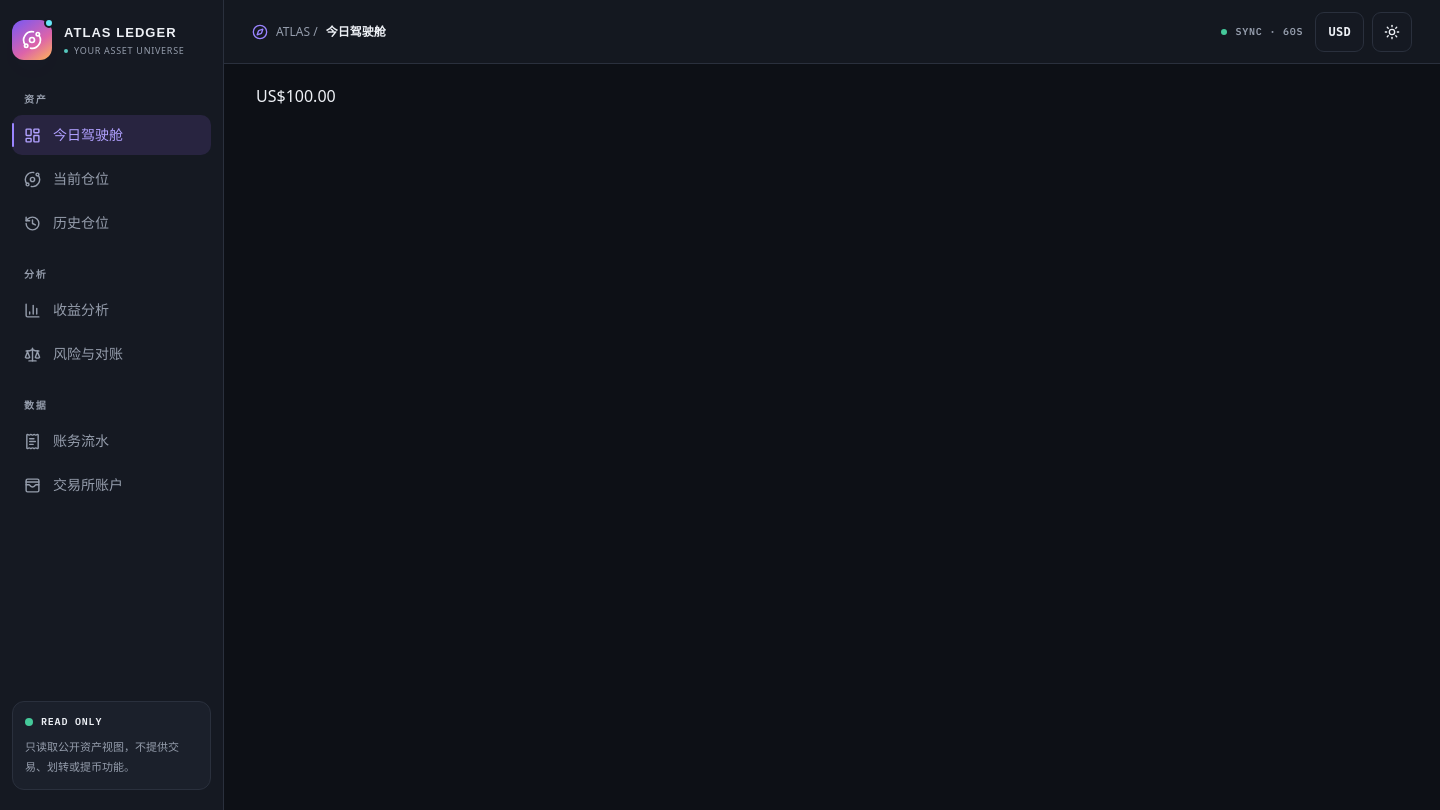
Test: portfolio pages › switches monetary values to CNY while keeping the selected unit locally
This screenshot has width=1440, height=810.
Expected: the text "US$100.00" is shown, [256,85,336,107]
Click the button named "切换为人民币 CNY" at (1340, 32), box [1315,12,1364,52]
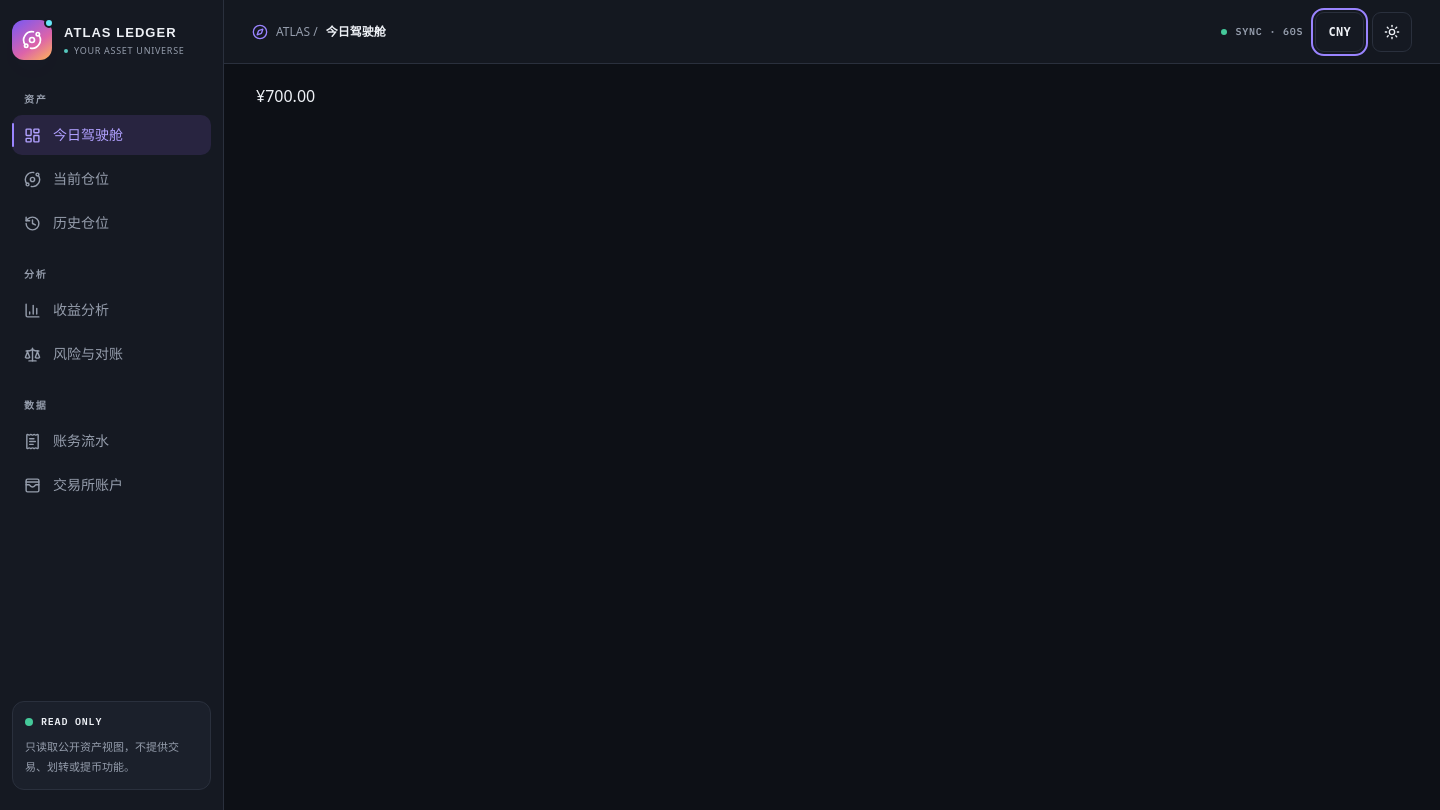
Expected: the text "¥700.00" is shown, [256,85,315,107]
Expected: the button named "切换为人民币 CNY" reads "CNY", [1315,12,1364,52]
